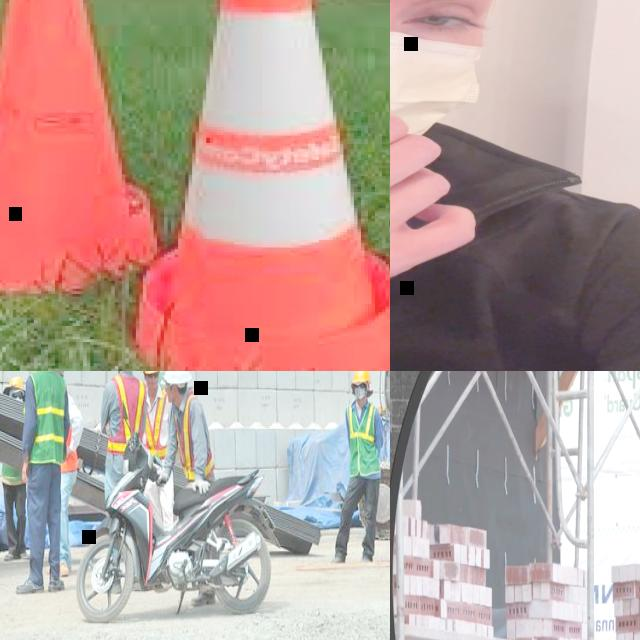Hardhat: (4, 376, 24, 392), (163, 371, 190, 381), (353, 371, 371, 383)
Mask: (390, 0, 492, 156), (354, 388, 366, 400)
NO-Mask: (148, 378, 160, 390), (166, 390, 178, 402)
NO-Safety Vest: (390, 168, 638, 371)
Person: (390, 0, 640, 371), (162, 371, 218, 605), (16, 371, 70, 593), (99, 371, 147, 592), (328, 371, 382, 564), (46, 371, 84, 572), (142, 371, 172, 589), (0, 373, 28, 557)
Safety Cone: (132, 0, 390, 371), (0, 0, 157, 291)
Safety Vest: (174, 388, 216, 483), (104, 373, 146, 454), (29, 371, 65, 462), (347, 403, 380, 473), (142, 384, 170, 458), (1, 397, 24, 486), (60, 423, 78, 473)
vehicle: (123, 371, 390, 539)
